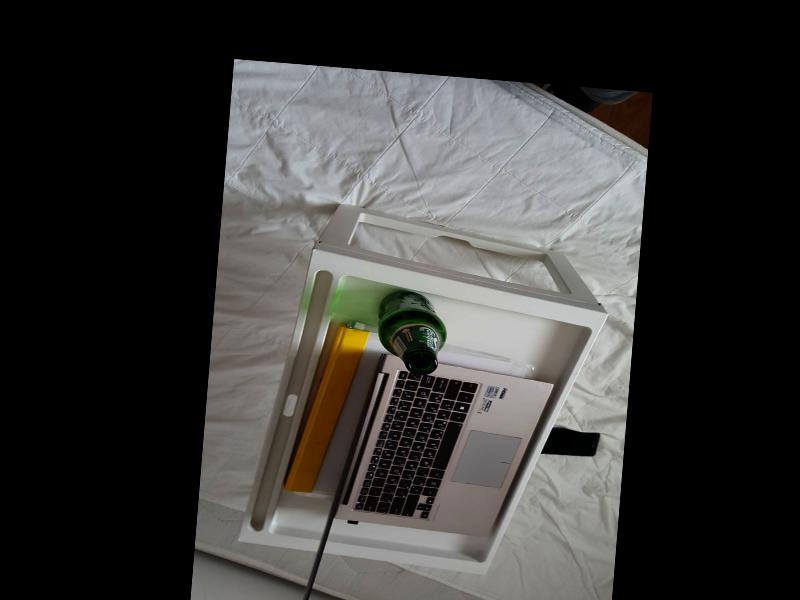Beer: (373, 287, 450, 375)
